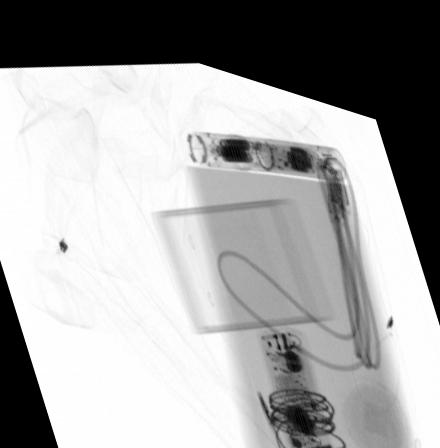Baton: (184, 116, 349, 161)
